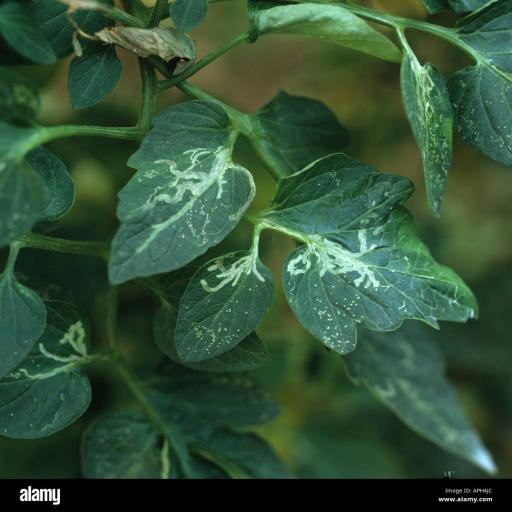disease_tomato: (270, 146, 482, 354), (102, 98, 257, 286), (172, 248, 276, 366)
